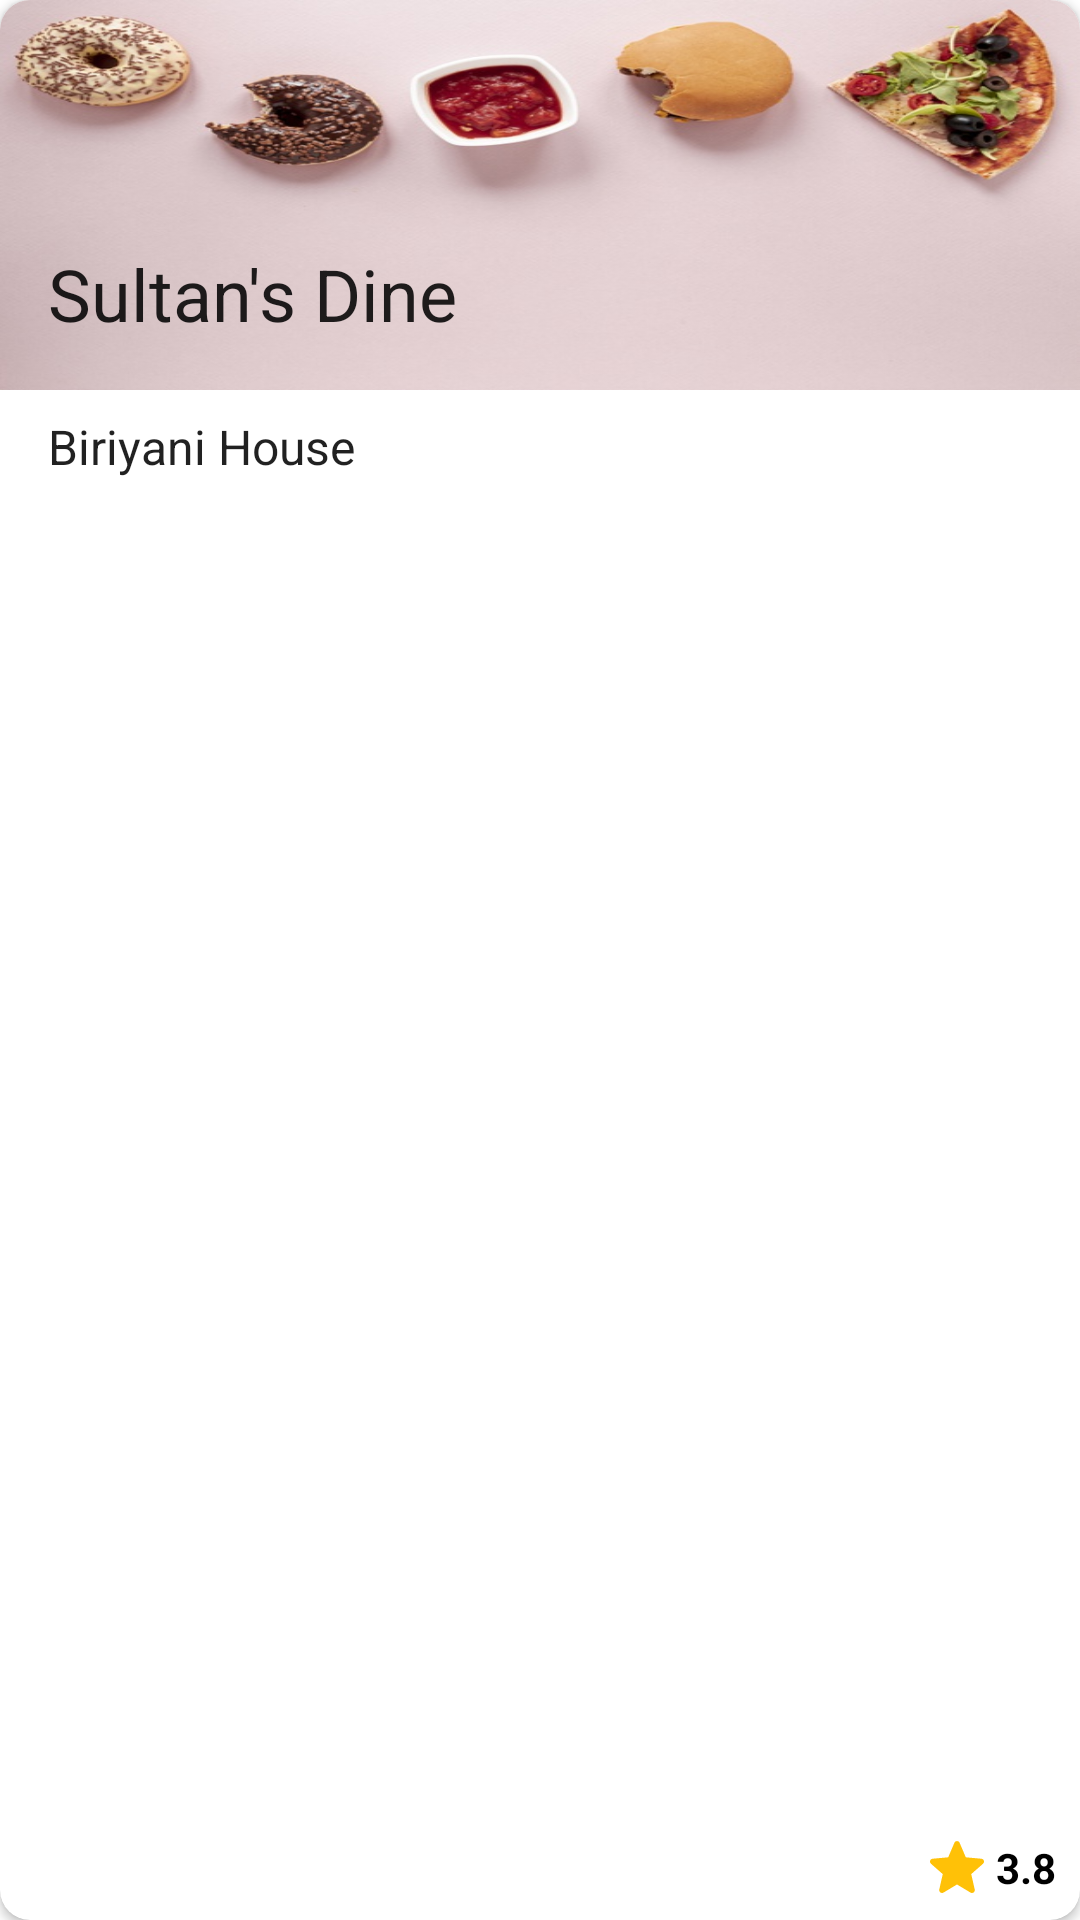

Icon click points for this 1080 x 1920 phone screenshot, format [x,y]:
star: [957,1867]
